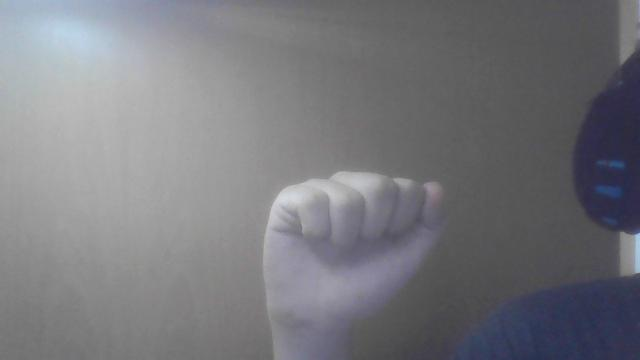forward: (262, 169, 448, 358)
